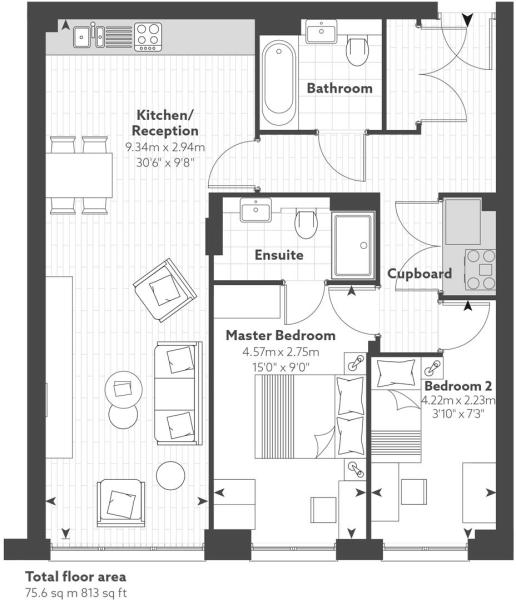GrossArea: (22, 568, 127, 600)
